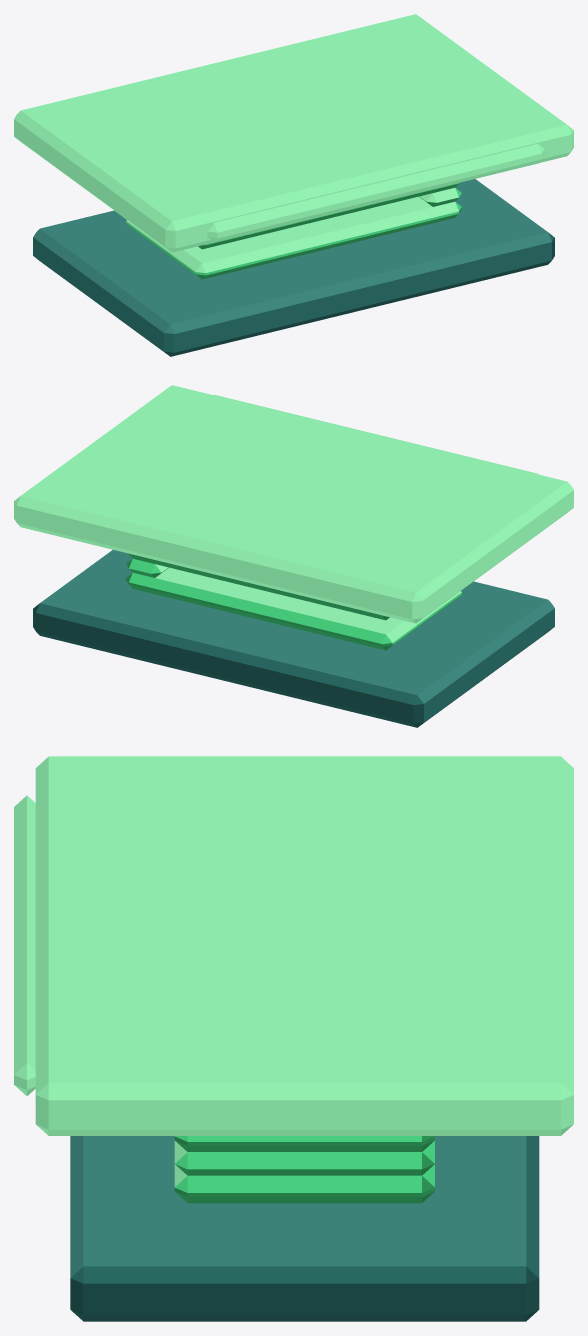
File: Spring_Hot.gltf
3 renders of one model, top to bottom at view 1: azimuth 30°, elevation 25°; view 2: azimuth 150°, elevation 25°; view 3: azimuth 270°, elevation 25°, orthographic. The views are drawn at different scales.
Visible parts, largest first — view 1: Spring_Hot_baked; view 2: Spring_Hot_baked; view 3: Spring_Hot_baked.
Part boxes in pixels (x1,y1,x2,y2): Spring_Hot_baked: (14, 14, 573, 356); Spring_Hot_baked: (14, 385, 573, 727); Spring_Hot_baked: (14, 756, 573, 1321).
Size of the model in its own units: 0.92 by 0.3125 by 0.645.
